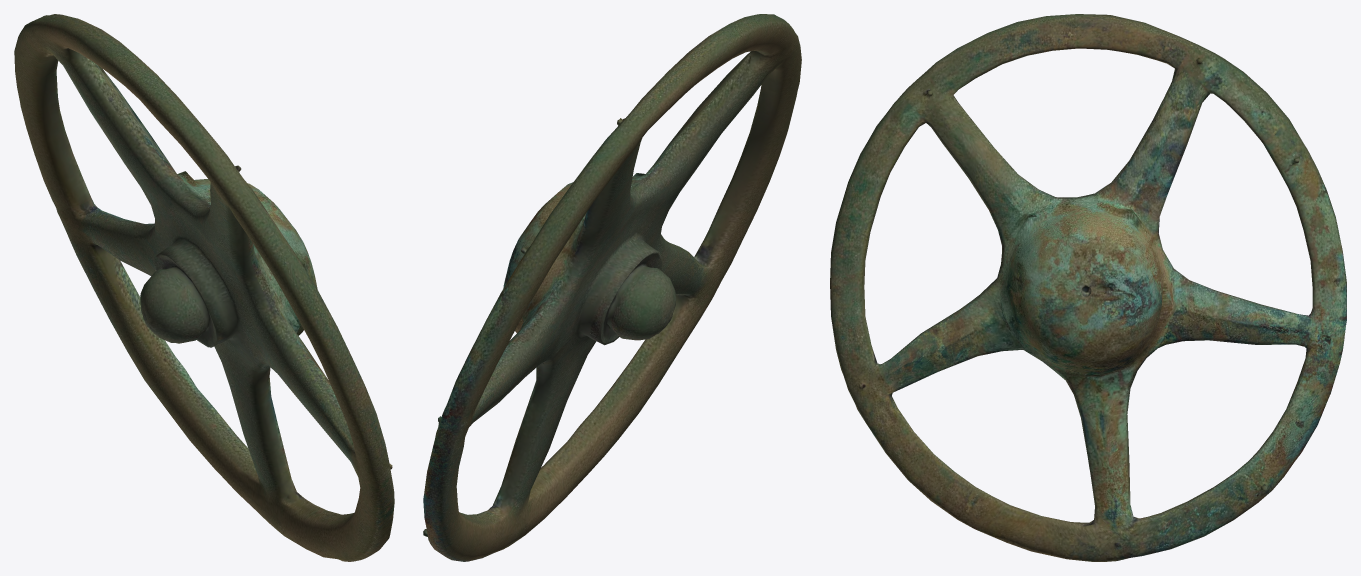
Rendered from sun-wheel.glb.
3 views of the same model, side by side, from view 1: azimuth 30°, elevation 25°; view 2: azimuth 150°, elevation 25°; view 3: azimuth 270°, elevation 25° (orthographic). The views are drawn at different scales.
Parts seen in each view (by area): view 1: tripo_node_7ec74cac-ddad-4021-a2ee-e59a5e5f5b04; view 2: tripo_node_7ec74cac-ddad-4021-a2ee-e59a5e5f5b04; view 3: tripo_node_7ec74cac-ddad-4021-a2ee-e59a5e5f5b04.
Boxes of the visible parts, left/top/right/bottom form: tripo_node_7ec74cac-ddad-4021-a2ee-e59a5e5f5b04: left=14, top=14, right=394, bottom=561; tripo_node_7ec74cac-ddad-4021-a2ee-e59a5e5f5b04: left=423, top=14, right=801, bottom=561; tripo_node_7ec74cac-ddad-4021-a2ee-e59a5e5f5b04: left=830, top=14, right=1346, bottom=561.
Bounding box in the file's own units: 0.416 × 0.9902 × 0.998.
1 material, 1 textured.
